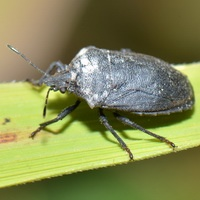insect: (7, 45, 194, 159)
